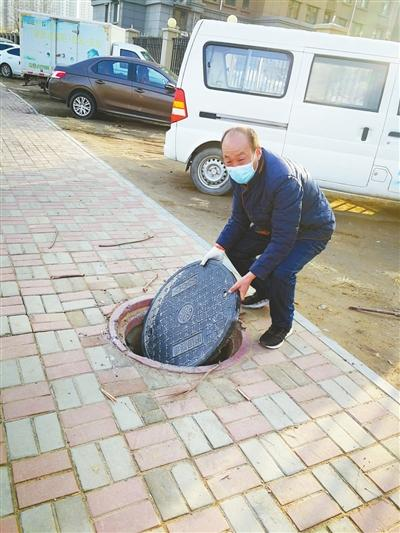uncovered: (90, 243, 257, 387)
